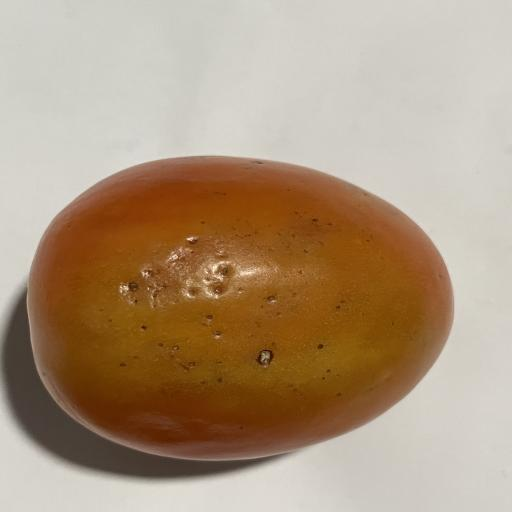unripe: (27, 156, 452, 460)
